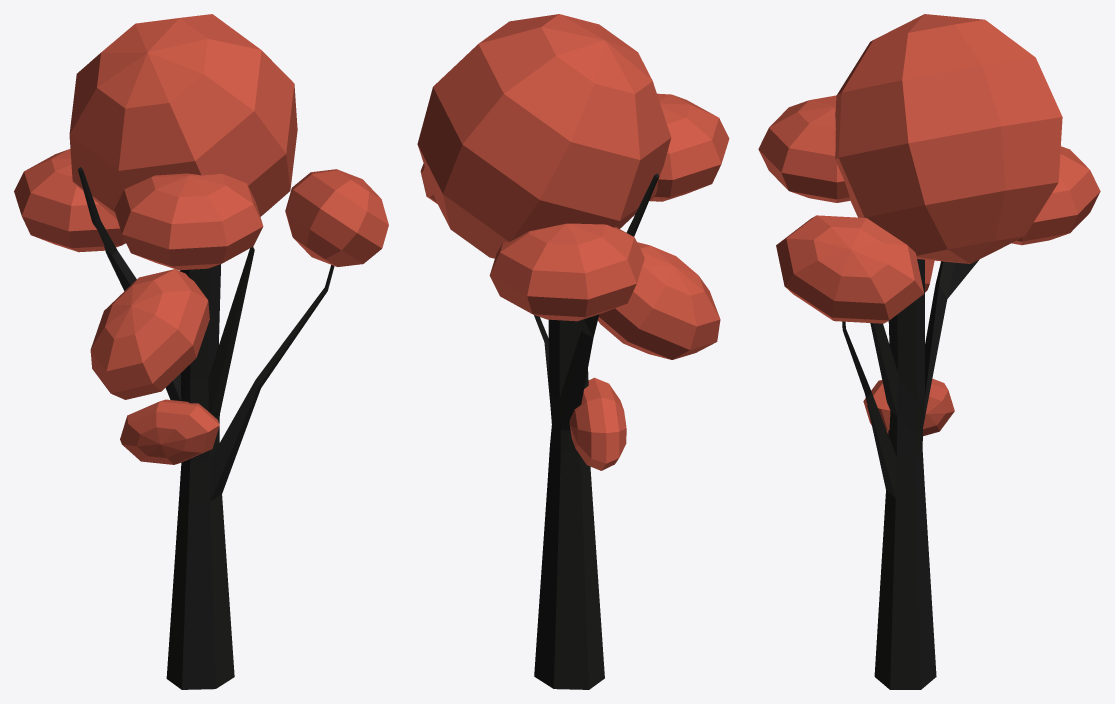
Rendered from tree3.fbx.
3 views of the same model, side by side, from view 1: azimuth 30°, elevation 25°; view 2: azimuth 150°, elevation 25°; view 3: azimuth 270°, elevation 25° (orthographic). The views are drawn at different scales.
Parts seen in each view (by area): view 1: Sphere, Cylinder.004, Sphere.003, Sphere.002, Sphere.005, Sphere.001, Sphere.004; view 2: Sphere, Cylinder.004, Sphere.001, Sphere.002, Sphere.003, Sphere.004; view 3: Sphere, Cylinder.004, Sphere.005, Sphere.003, Sphere.001, Sphere.004.
Boxes of the visible parts, x1,y1,x2,y2 form: Sphere: (69,14,297,219); Cylinder.004: (78,167,334,689); Sphere.003: (114,173,263,270); Sphere.002: (90,269,209,399); Sphere.005: (285,169,388,266); Sphere.001: (14,149,125,252); Sphere.004: (120,399,219,464); Sphere: (417,14,671,258); Cylinder.004: (534,173,659,689); Sphere.001: (489,223,644,321); Sphere.002: (598,242,720,359); Sphere.003: (650,93,729,201); Sphere.004: (569,377,626,470); Sphere: (835,14,1062,263); Cylinder.004: (842,259,979,689); Sphere.005: (776,215,924,323); Sphere.003: (758,95,850,202); Sphere.001: (1012,146,1100,245); Sphere.004: (863,378,954,436).
Size of the model in its own units: 185 by 412 by 195.
